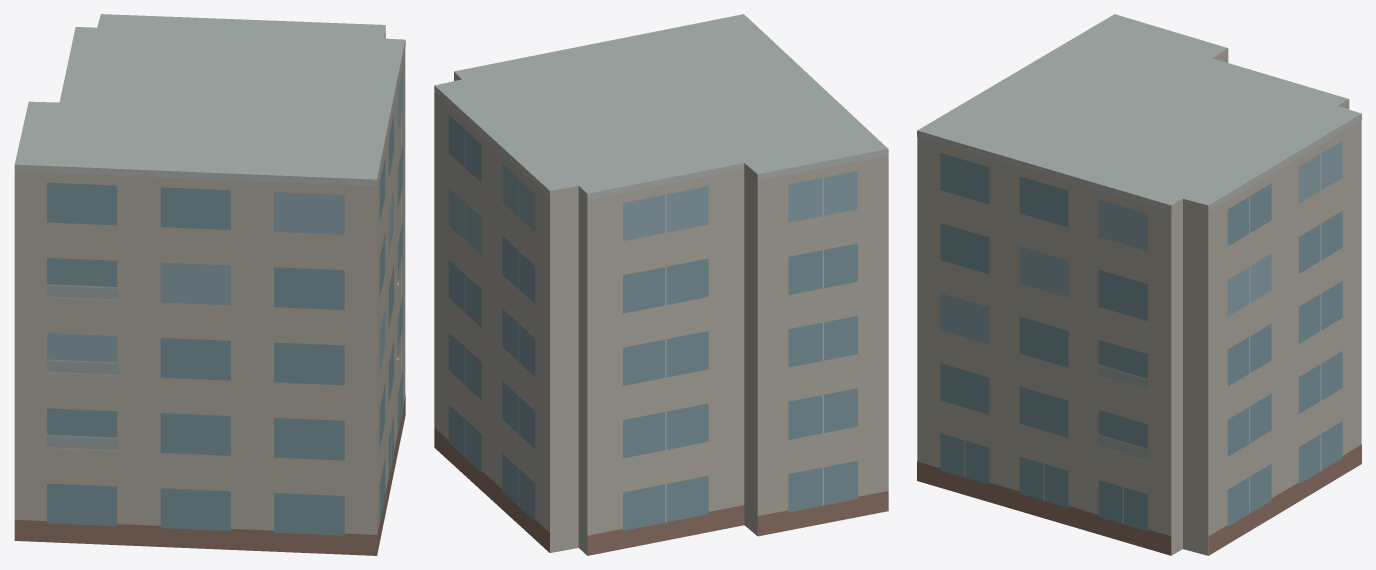
The model's file is survey-upis-32838173.glb.
3 views of the same model, side by side, from view 1: azimuth 30°, elevation 25°; view 2: azimuth 150°, elevation 25°; view 3: azimuth 270°, elevation 25° (orthographic). The views are drawn at different scales.
Visible parts, largest first — view 1: survey-upis-32838173.tmp; view 2: survey-upis-32838173.tmp; view 3: survey-upis-32838173.tmp.
Part boxes in pixels (x1=…): survey-upis-32838173.tmp: x1=14, y1=14, x2=405, y2=555; survey-upis-32838173.tmp: x1=434, y1=14, x2=888, y2=555; survey-upis-32838173.tmp: x1=917, y1=14, x2=1361, y2=555.
Bounding box in the file's own units: 15.83 × 13.5 × 15.54.
